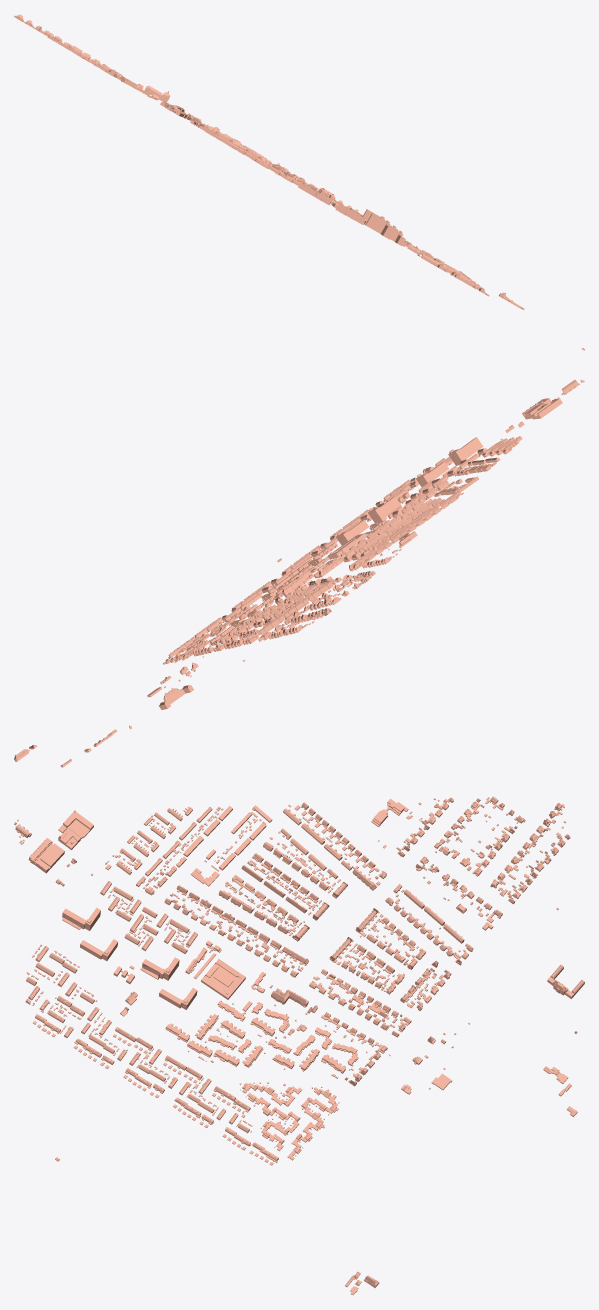
The picture shows the model from 3 angles, top to bottom: view 1: azimuth 30°, elevation 25°; view 2: azimuth 150°, elevation 25°; view 3: azimuth 270°, elevation 25°; orthographic projection. The views are drawn at different scales.
Bounding box in the file's own units: 977 × 747 × 1236.
